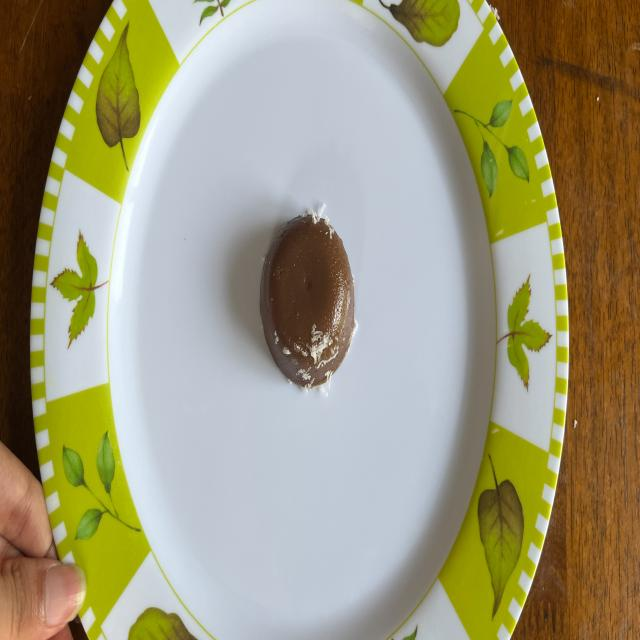Kuih lompang: (260, 211, 355, 389)
